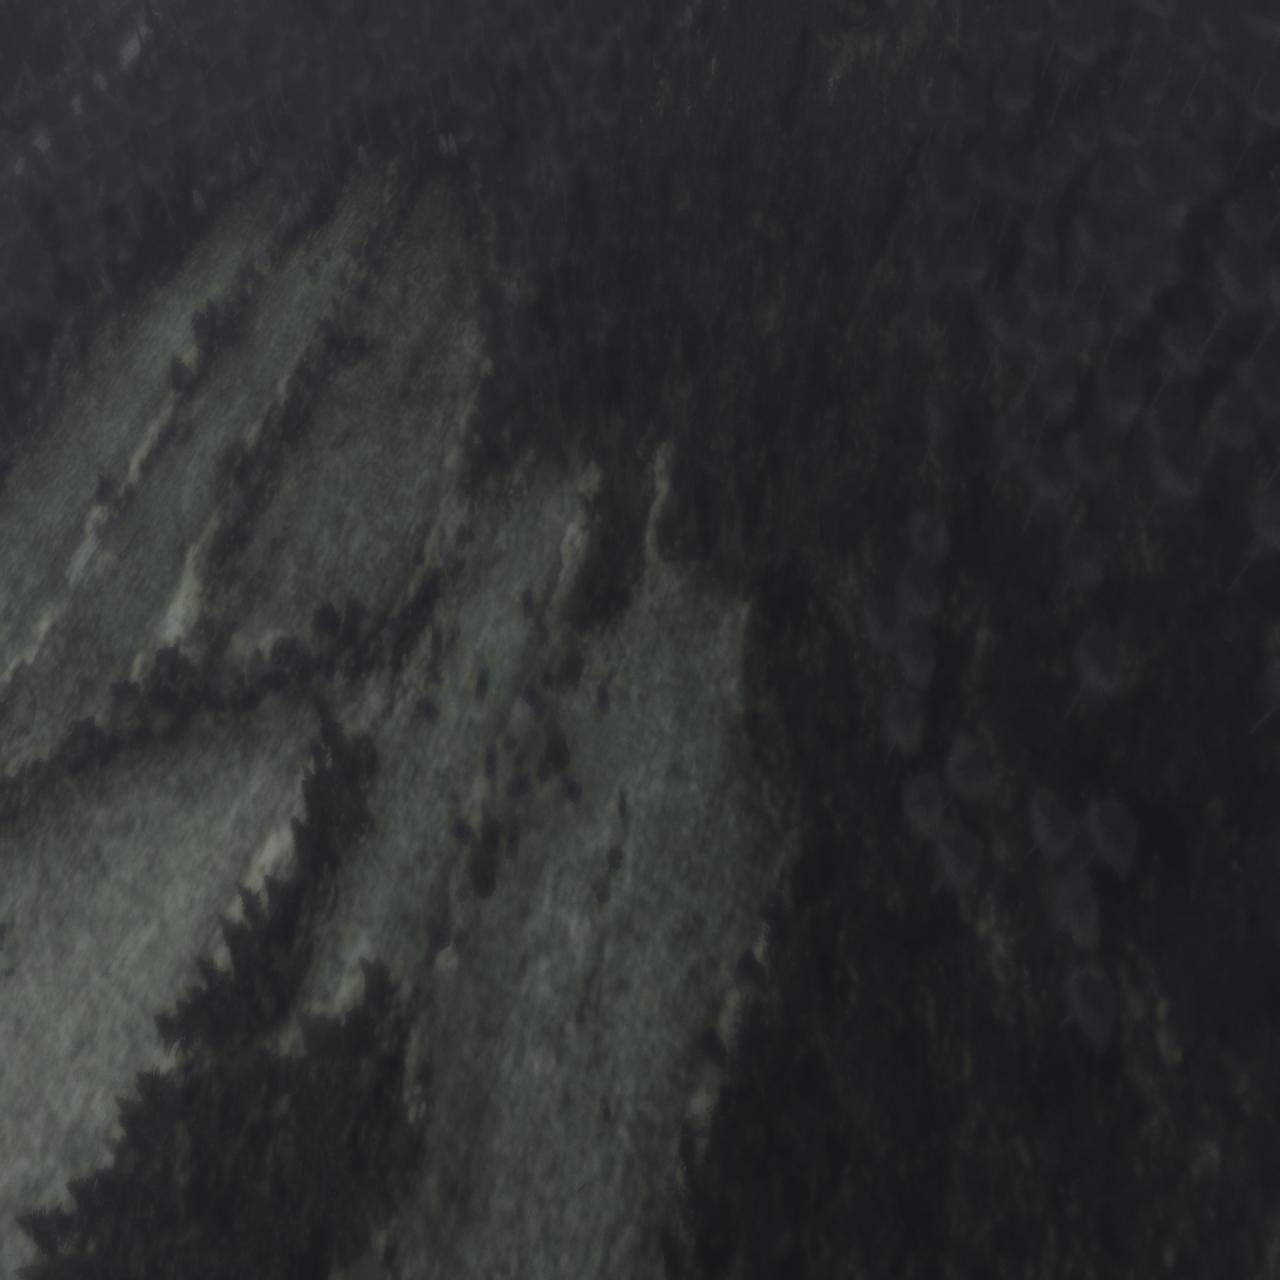MIL_Veh: (518, 675, 542, 710), (511, 770, 535, 803), (504, 823, 522, 862), (450, 817, 472, 845), (595, 681, 613, 716), (420, 695, 440, 724), (485, 738, 499, 779), (561, 778, 583, 805), (519, 584, 535, 620), (475, 667, 489, 702), (431, 620, 444, 652), (503, 735, 516, 749)
